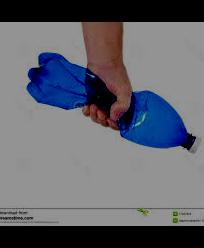Plastic: (21, 51, 203, 157)
